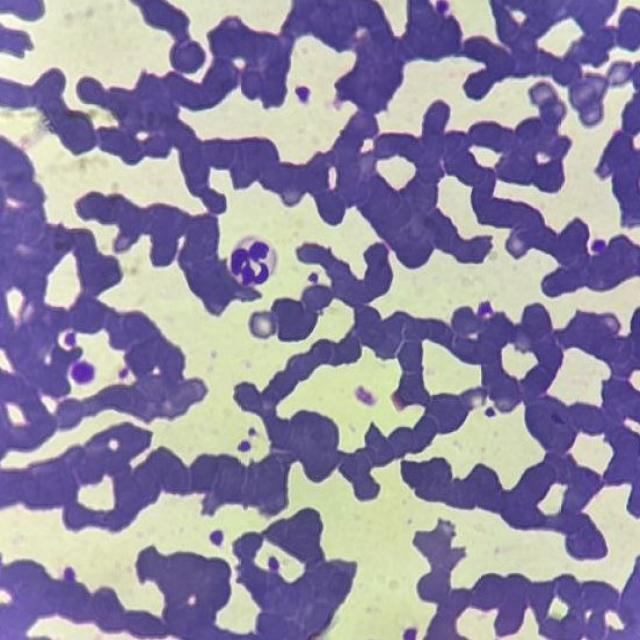Neutrofilo: (225, 234, 278, 291)
